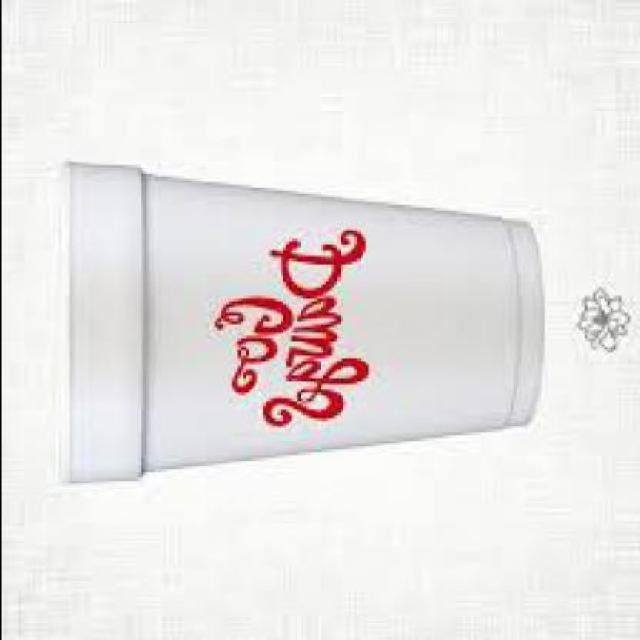PAPER: (54, 156, 534, 478)
